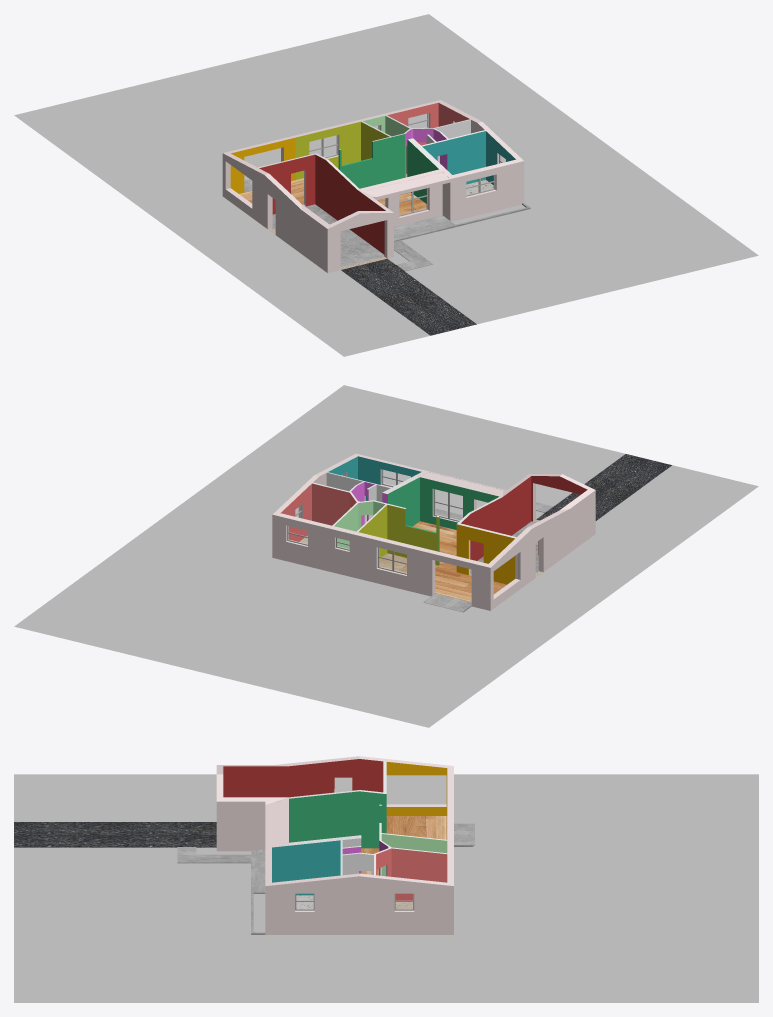
3 views of the same model, one above another, from view 1: azimuth 30°, elevation 25°; view 2: azimuth 150°, elevation 25°; view 3: azimuth 270°, elevation 25° (orthographic). The views are drawn at different scales.
Visible parts, largest first — view 1: ground_surfaces__grass, exterior_walls, ground_surfaces__garage_path, Garage_Walls, Living_Room_Walls, Bedroom_1_Walls, Kitchen_Walls, ground_surfaces__hard_surface, interior_walls, Garage_Floor, Bedroom_2_Walls, Dining_Room_Walls (+1 smaller); view 2: ground_surfaces__grass, exterior_walls, Garage_Walls, ground_surfaces__garage_path, Living_Room_Walls, Bedroom_2_Walls, Kitchen_Walls, Dining_Room_Walls, interior_walls, Bedroom_1_Walls, Dining_Room_Floor, Bathroom_Walls (+3 smaller); view 3: ground_surfaces__grass, exterior_walls, ground_surfaces__garage_path, Garage_Walls, Living_Room_Walls, Bedroom_1_Walls, ground_surfaces__hard_surface, Bedroom_2_Walls, interior_walls, Dining_Room_Walls, Dining_Room_Floor, Bathroom_Walls.
Boxes of the visible parts, box(x1,y1,x2,y2) form: ground_surfaces__grass: box(14, 14, 758, 356); exterior_walls: box(222, 100, 524, 272); ground_surfaces__garage_path: box(341, 258, 476, 335); Garage_Walls: box(259, 154, 385, 256); Living_Room_Walls: box(320, 134, 438, 203); Bedroom_1_Walls: box(422, 131, 515, 184); Kitchen_Walls: box(295, 121, 389, 179); ground_surfaces__hard_surface: box(244, 179, 530, 271); interior_walls: box(258, 115, 485, 204); Garage_Floor: box(272, 204, 384, 266); Bedroom_2_Walls: box(387, 102, 469, 145); Dining_Room_Walls: box(230, 137, 295, 193); ground_surfaces__grass: box(14, 385, 758, 727); exterior_walls: box(272, 453, 595, 610); Garage_Walls: box(461, 476, 587, 560); ground_surfaces__garage_path: box(536, 454, 671, 520); Living_Room_Walls: box(388, 477, 499, 565); Bedroom_2_Walls: box(280, 483, 356, 541); Kitchen_Walls: box(358, 505, 438, 565); Dining_Room_Walls: box(456, 524, 515, 584); interior_walls: box(312, 472, 516, 574); Bedroom_1_Walls: box(328, 456, 421, 500); Dining_Room_Floor: box(435, 565, 506, 601); Bathroom_Walls: box(334, 501, 384, 548); ground_surfaces__grass: box(14, 774, 758, 1002); exterior_walls: box(216, 756, 453, 934); ground_surfaces__garage_path: box(14, 822, 216, 847); Garage_Walls: box(223, 759, 383, 797); Living_Room_Walls: box(289, 791, 386, 848); Bedroom_1_Walls: box(272, 840, 340, 895); ground_surfaces__hard_surface: box(177, 823, 474, 934); Bedroom_2_Walls: box(376, 848, 447, 900); interior_walls: box(289, 761, 447, 876); Dining_Room_Walls: box(386, 762, 447, 815); Dining_Room_Floor: box(386, 816, 447, 839); Bathroom_Walls: box(381, 834, 447, 876).
Size of the model in its own units: 987 by 121 by 1360.
